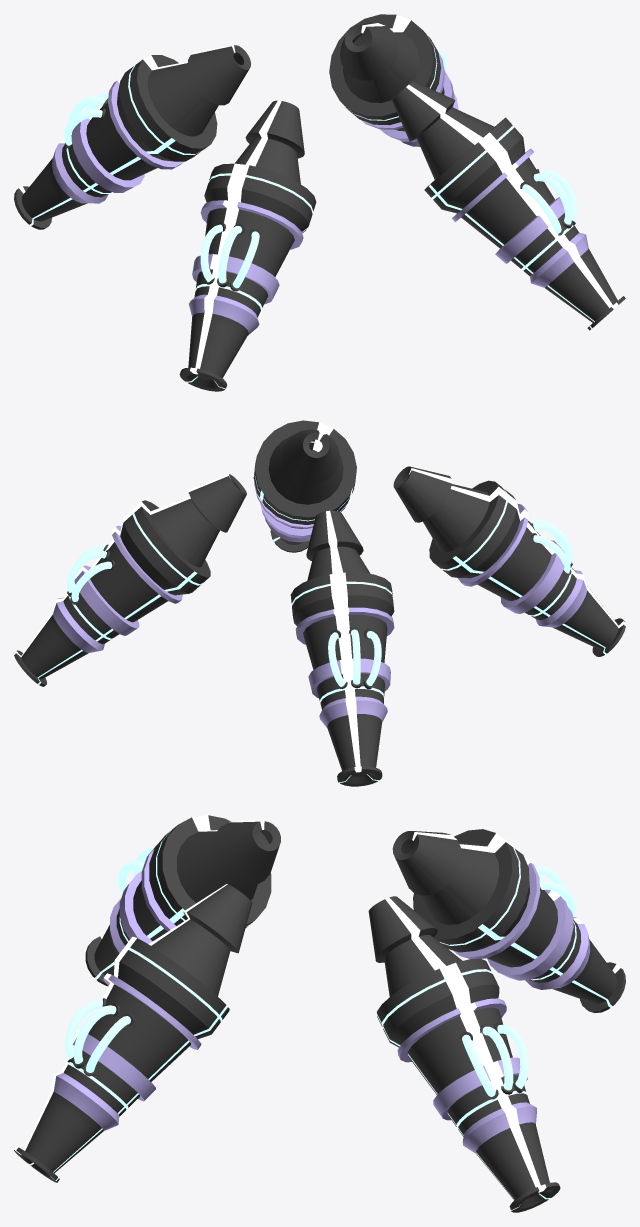
File: antimatter_laser.fbx
The picture shows the model from 3 angles, top to bottom: view 1: azimuth 30°, elevation 25°; view 2: azimuth 150°, elevation 25°; view 3: azimuth 270°, elevation 25°; orthographic projection. The views are drawn at different scales.
Parts seen in each view (by area): view 1: Circle.002; view 2: Circle.002; view 3: Circle.002.
Boxes of the visible parts, left/top/right/bottom form: Circle.002: left=14, top=14, right=625, bottom=391; Circle.002: left=14, top=420, right=625, bottom=786; Circle.002: left=14, top=815, right=625, bottom=1212.
Bounding box in the file's own units: 440 × 191 × 444.
